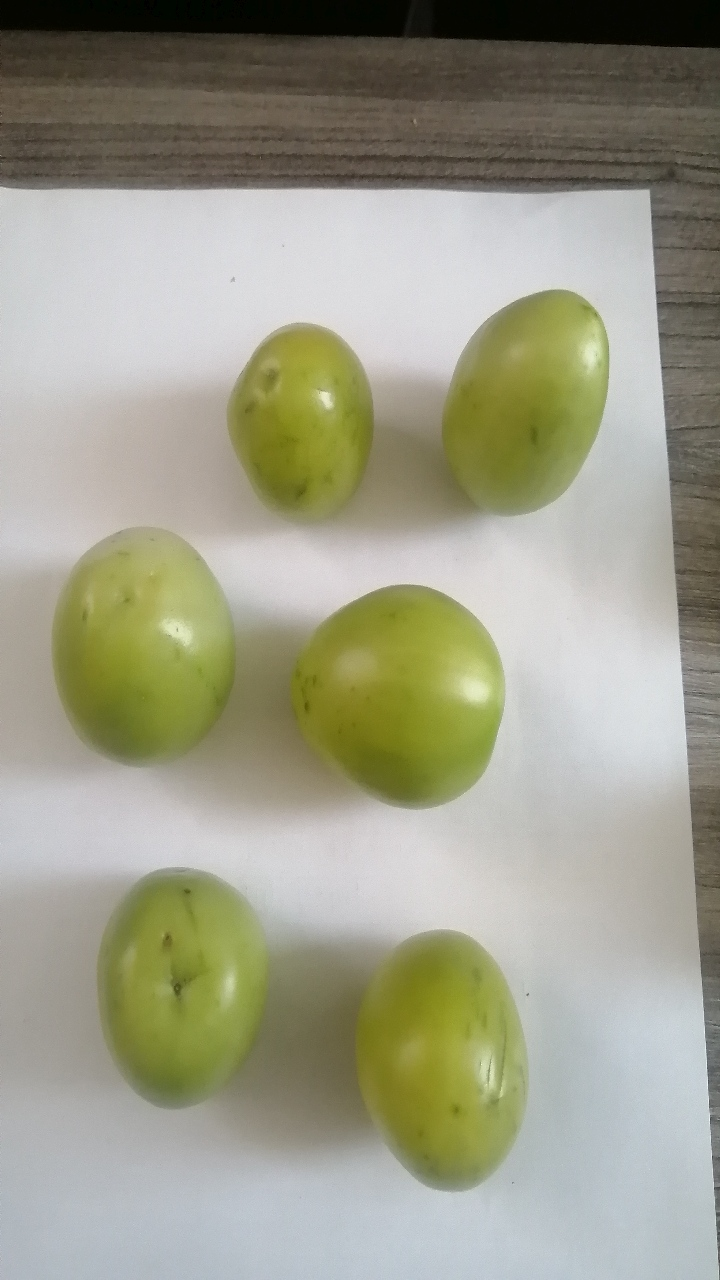tomateVerde: (251, 540, 518, 834), (34, 500, 252, 782), (332, 925, 543, 1215), (404, 263, 628, 525), (88, 849, 283, 1131), (220, 303, 392, 532)
